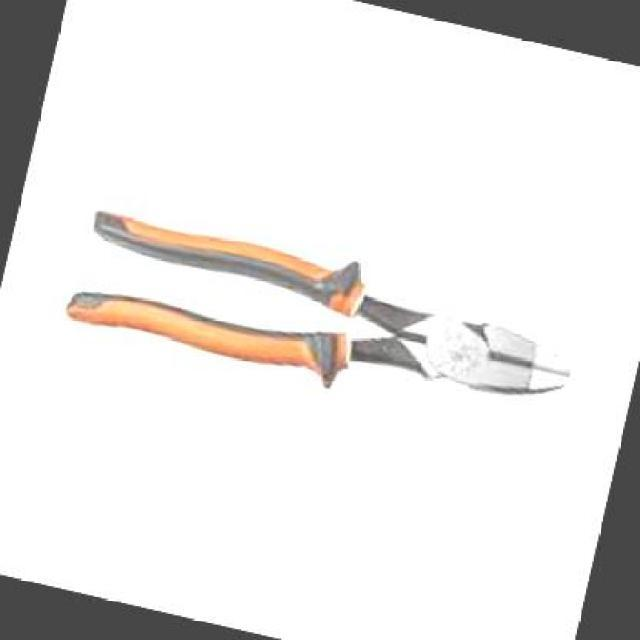pliers: (27, 174, 595, 491)
